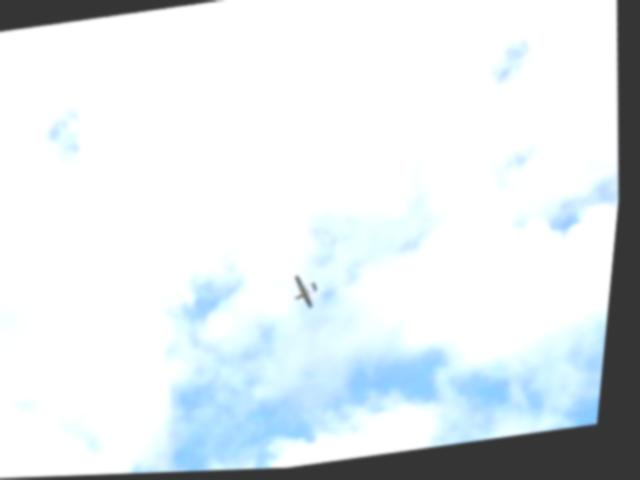uav: (293, 271, 331, 316)
